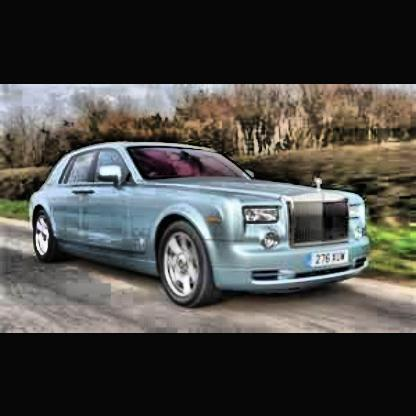Rolls-Royce Phantom Sedan 2012: (31, 147, 374, 306)
